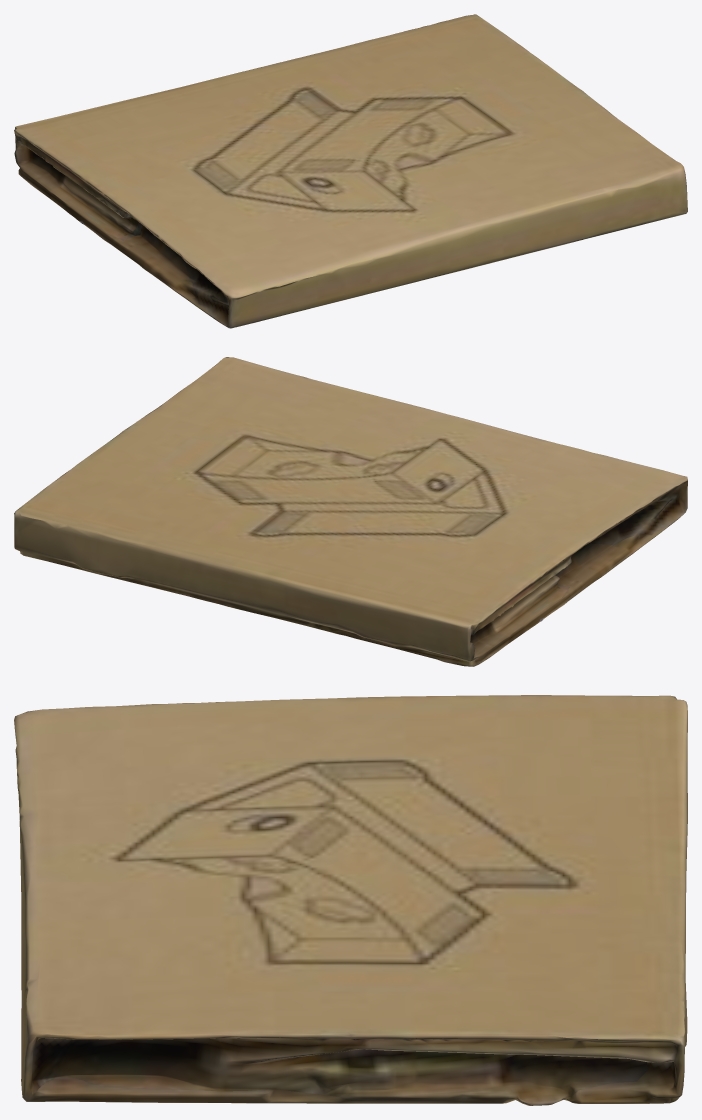
File: gso_google_cardboard_original_package.glb
3 views of the same model, one above another, from view 1: azimuth 30°, elevation 25°; view 2: azimuth 150°, elevation 25°; view 3: azimuth 270°, elevation 25° (orthographic). The views are drawn at different scales.
Parts seen in each view (by area): view 1: z-up-to-y-up; view 2: z-up-to-y-up; view 3: z-up-to-y-up.
Part boxes in pixels (x1,y1,x2,y2): z-up-to-y-up: (14, 14, 687, 328); z-up-to-y-up: (14, 357, 687, 666); z-up-to-y-up: (14, 695, 687, 1105).
Size of the model in its own units: 0.2143 by 0.0228 by 0.1752.
1 material, 1 textured.
